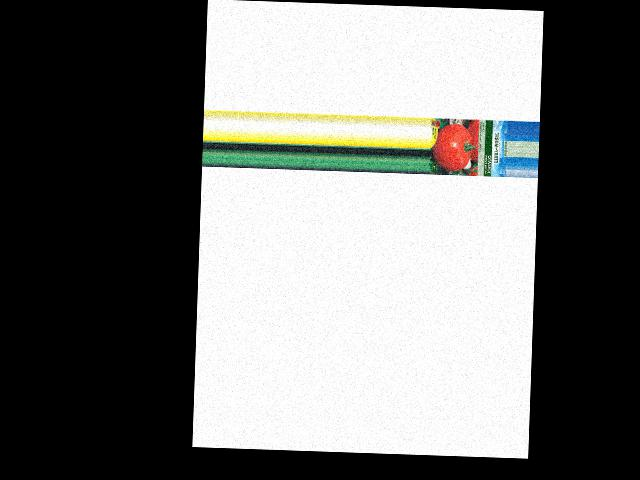tomato: (431, 123, 472, 171)
